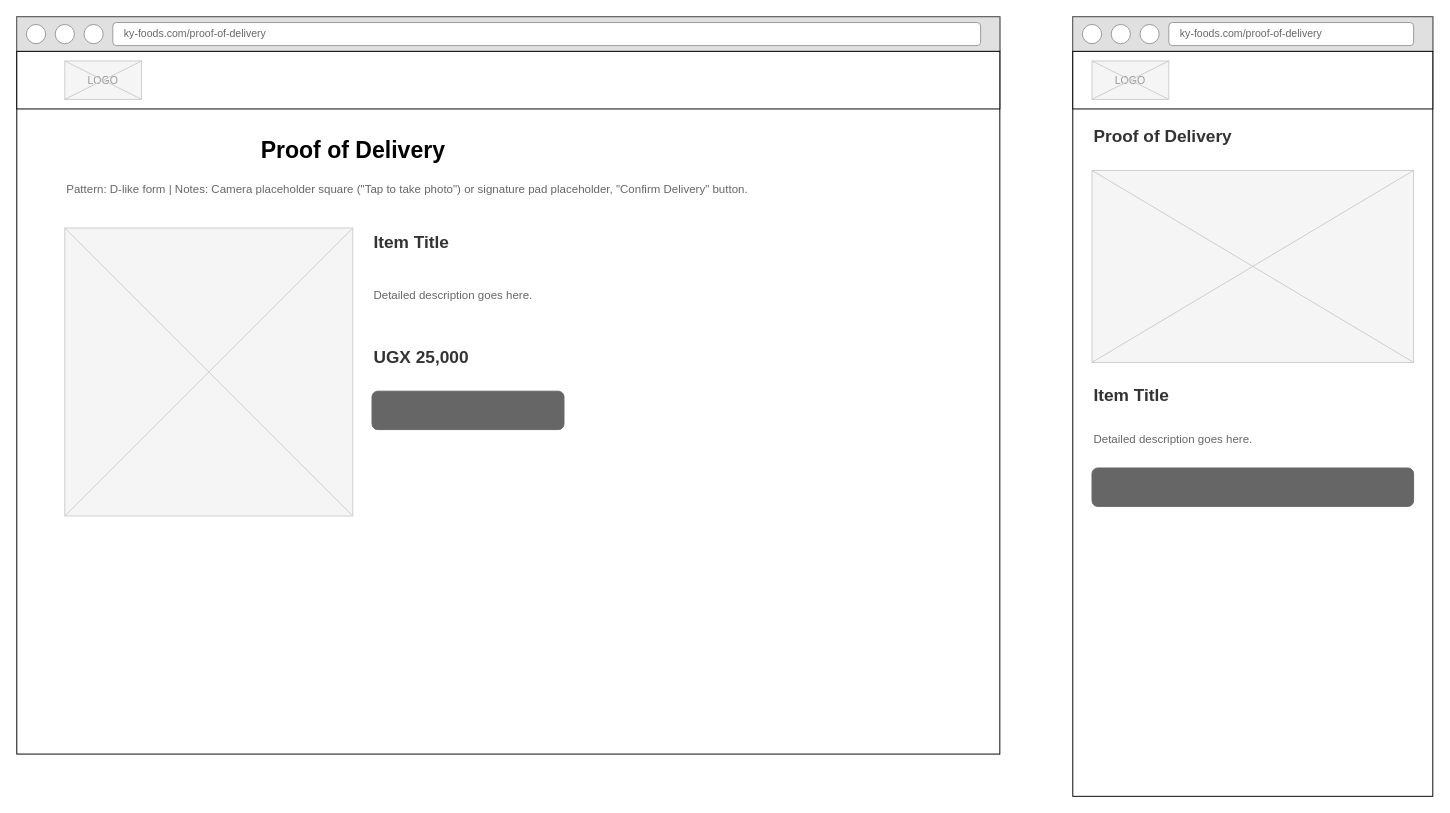
Image size: 1450x813. Some labels were removed from this diagram. Here are the shapes that lost their labels. From the top down, the centre of each, then its label:
At point (467, 410): "Action Button".
At point (1252, 486): "Action (UGX 25,000)".
